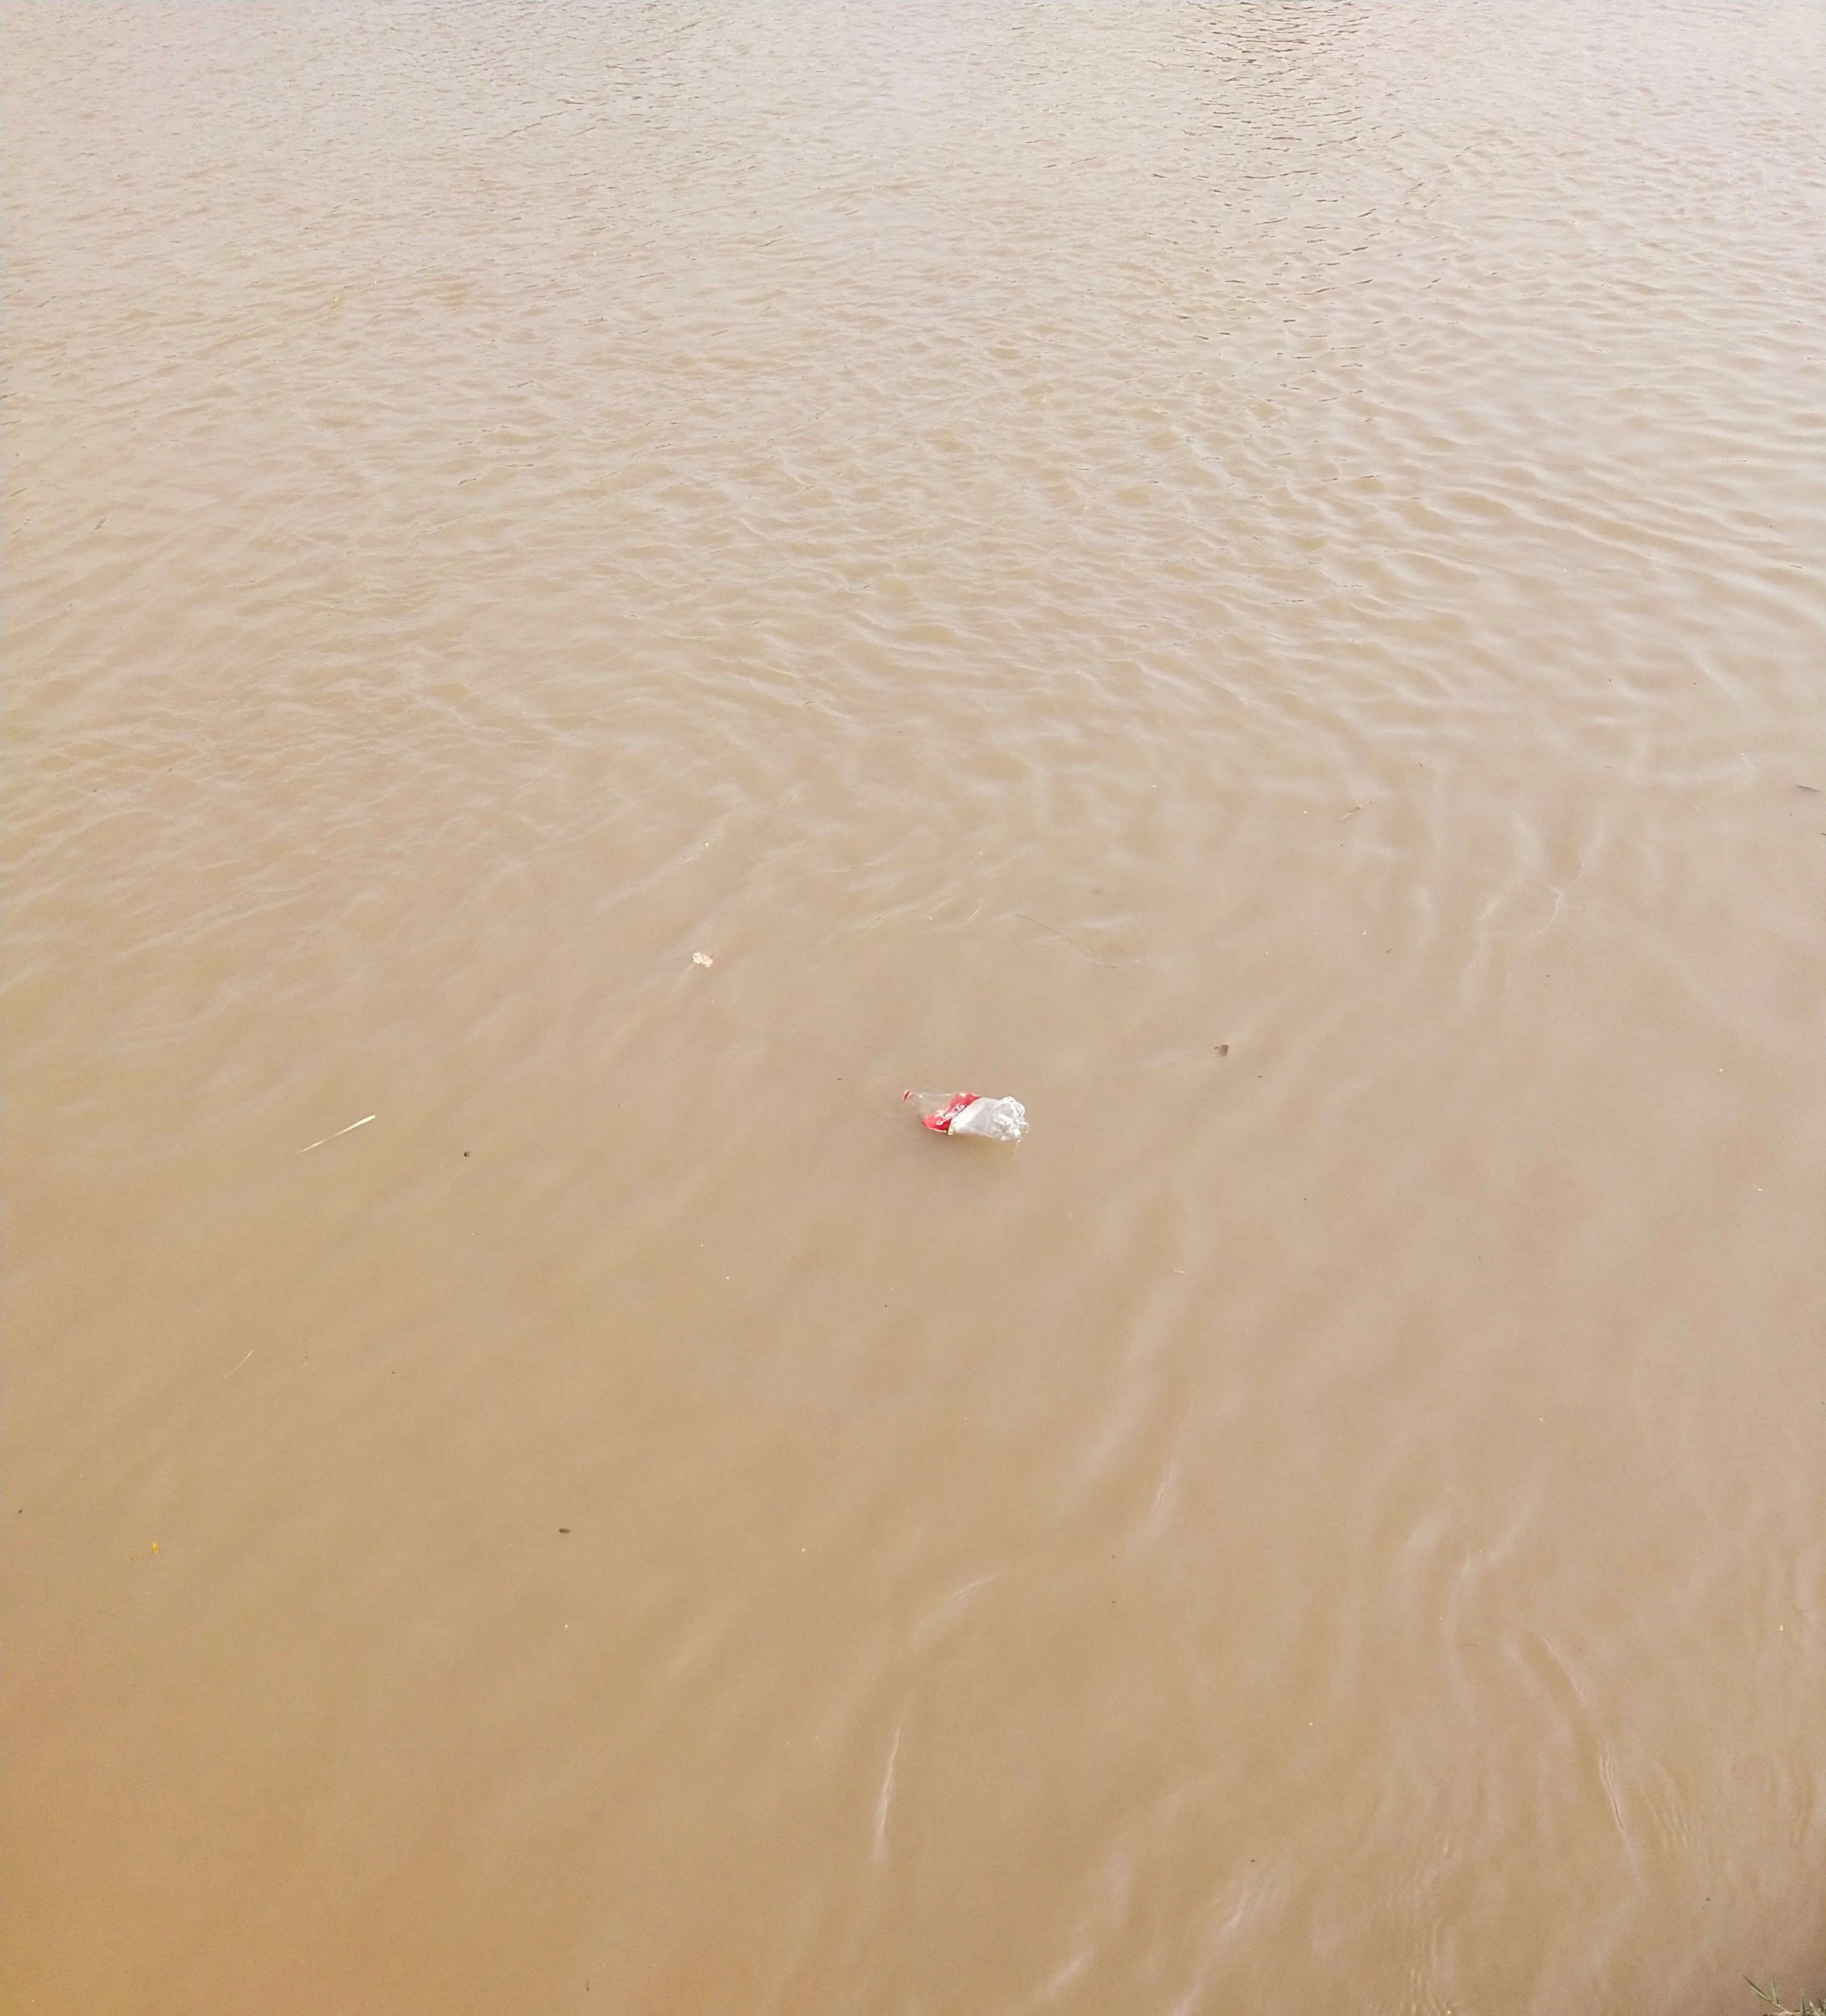Plastic Bottle: (902, 1089, 1027, 1143)
